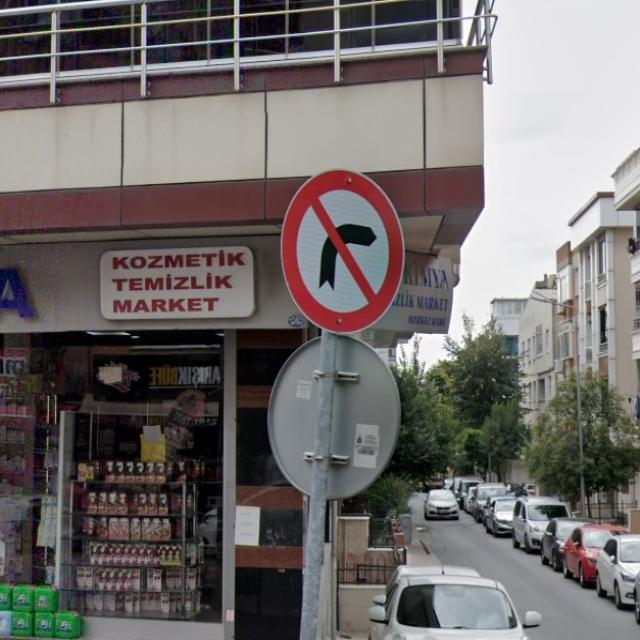sagadonulmez: (280, 169, 404, 333)
